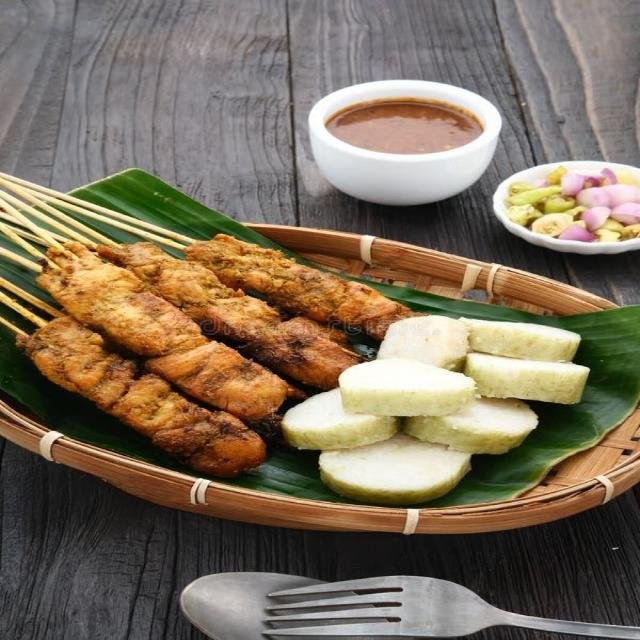Sate: (0, 158, 405, 487)
